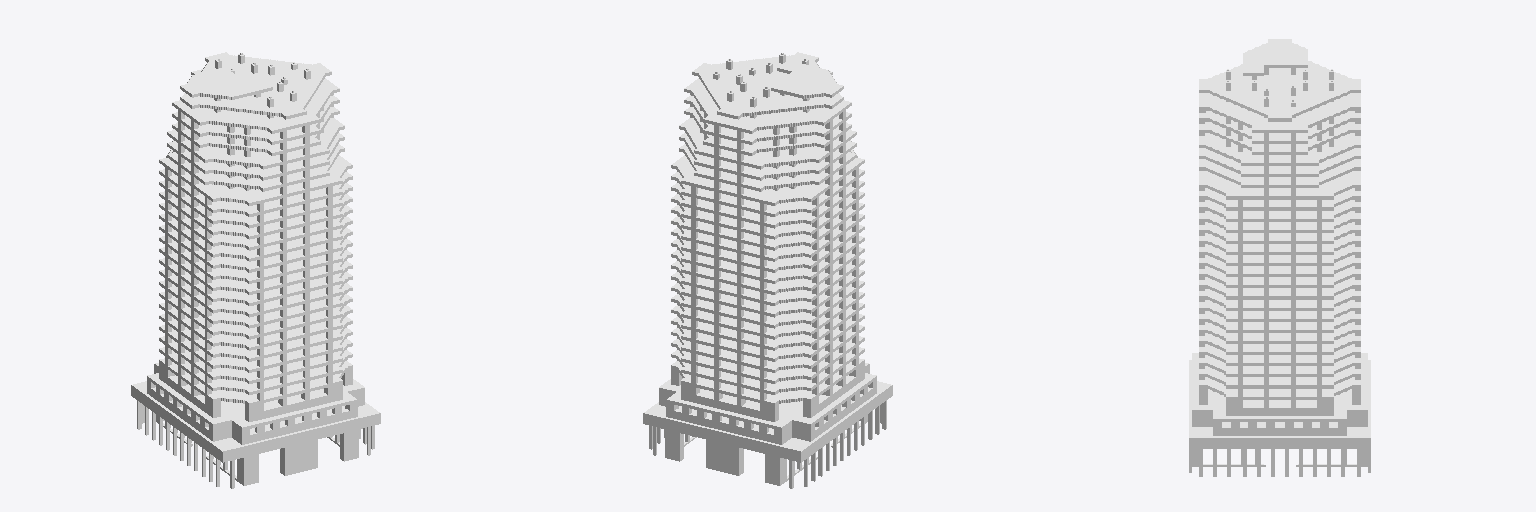
The model's file is Bunk_Building.obj.
3 views of the same model, side by side, from view 1: azimuth 30°, elevation 25°; view 2: azimuth 150°, elevation 25°; view 3: azimuth 270°, elevation 25° (orthographic).
Parts seen in each view (by area): view 1: object 1; view 2: object 1; view 3: object 1.
Boxes of the visible parts, box(x1,y1,x2,y2) form: object 1: box(131, 52, 380, 488); object 1: box(643, 52, 892, 488); object 1: box(1189, 39, 1370, 476).
Bounding box in the file's own units: 10.4 × 23 × 10.4.